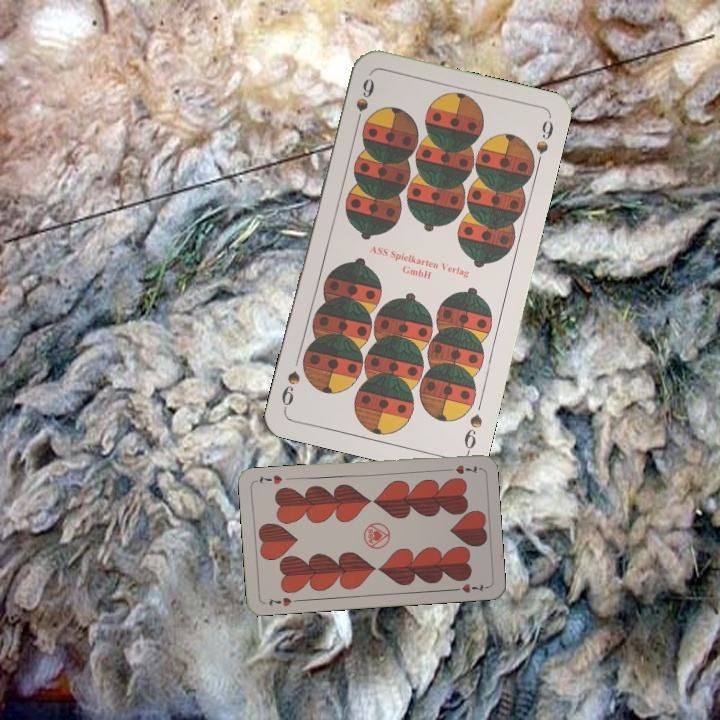H7: (441, 461, 481, 476), (265, 593, 301, 609)
S9: (351, 74, 377, 131), (459, 409, 485, 456)
